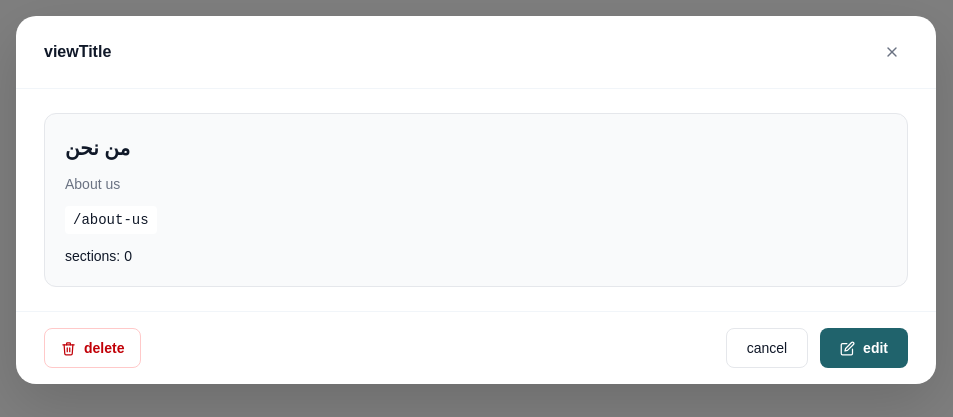
Test: CmsPageDialog SEO asset deletion › discloses orphan-media deletion before confirming page deletion
Click the button "delete". click: {"x": 93, "y": 348}
box: [44,328,142,368]
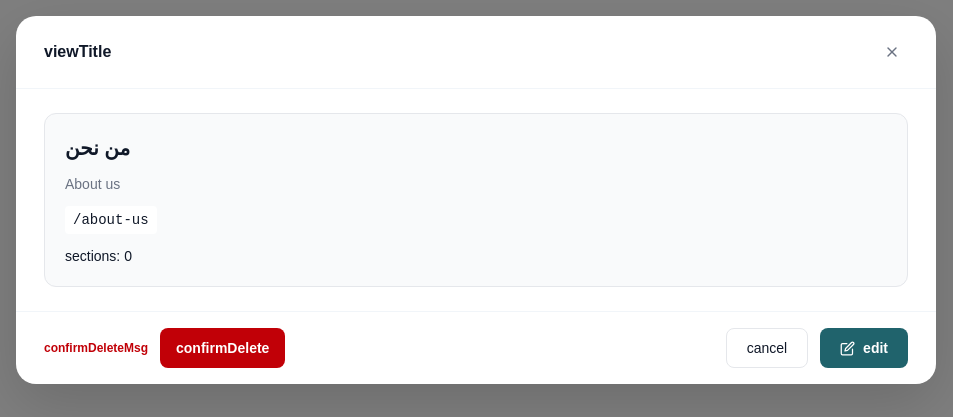
Result: the text "confirmDeleteMsg" is shown at [44,340,148,356]
